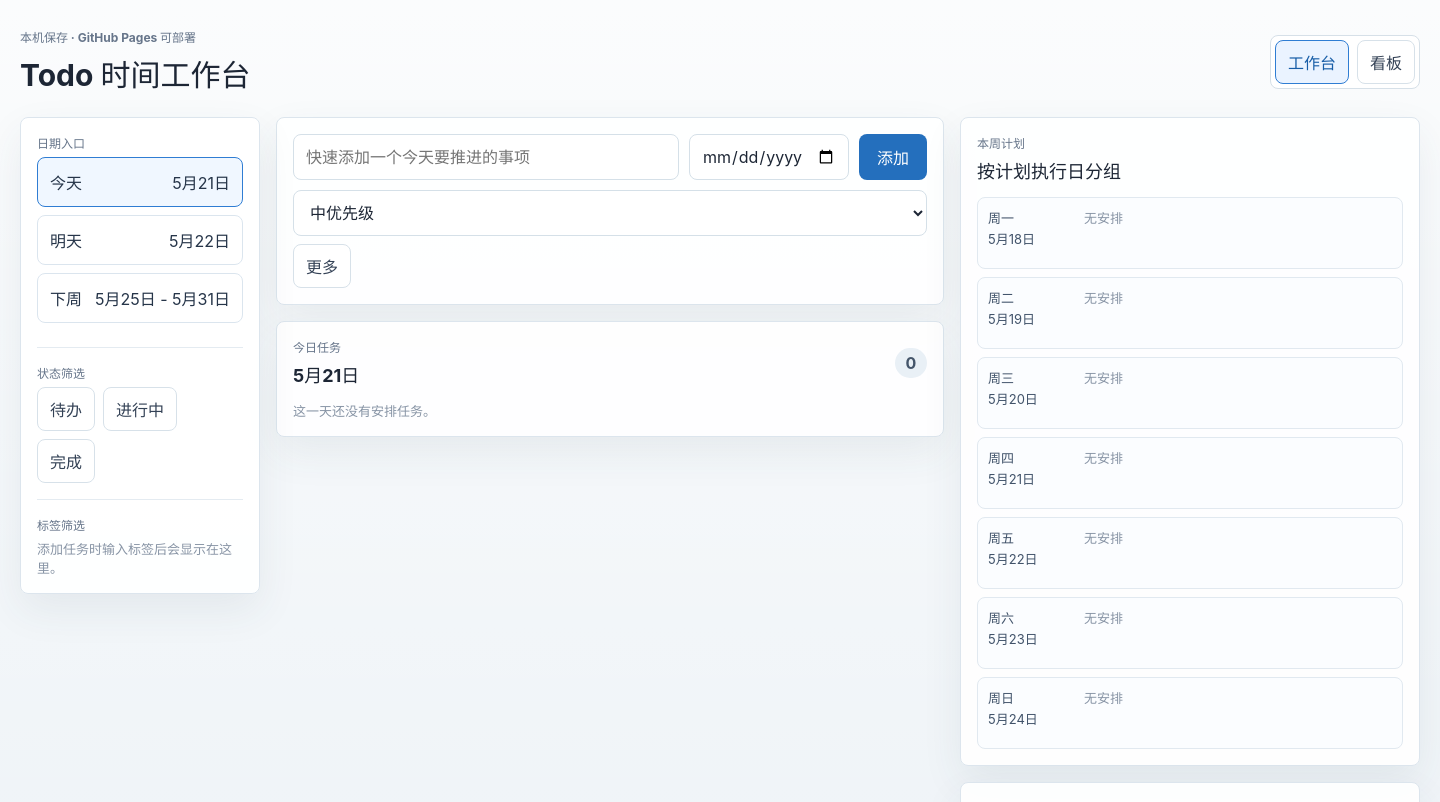
Test case: App workbench › renders the time workbench and adds a task from the quick input
The image size is (1440, 802).
Type "完成项目首页" into the field with test id "quick-title" at (486, 157), box [293, 134, 679, 180]
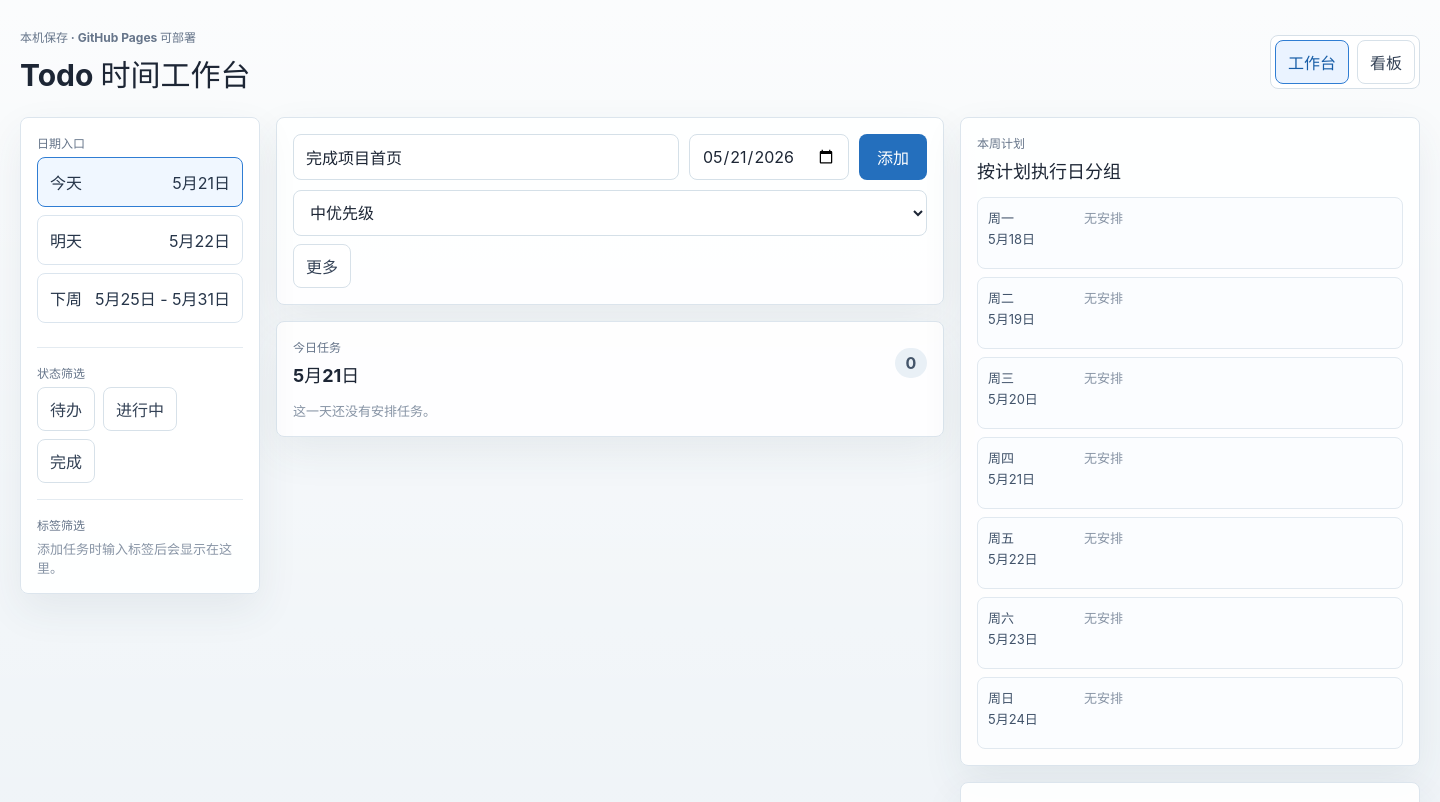
Submit the form with test id "quick-add", box [276, 117, 944, 305]
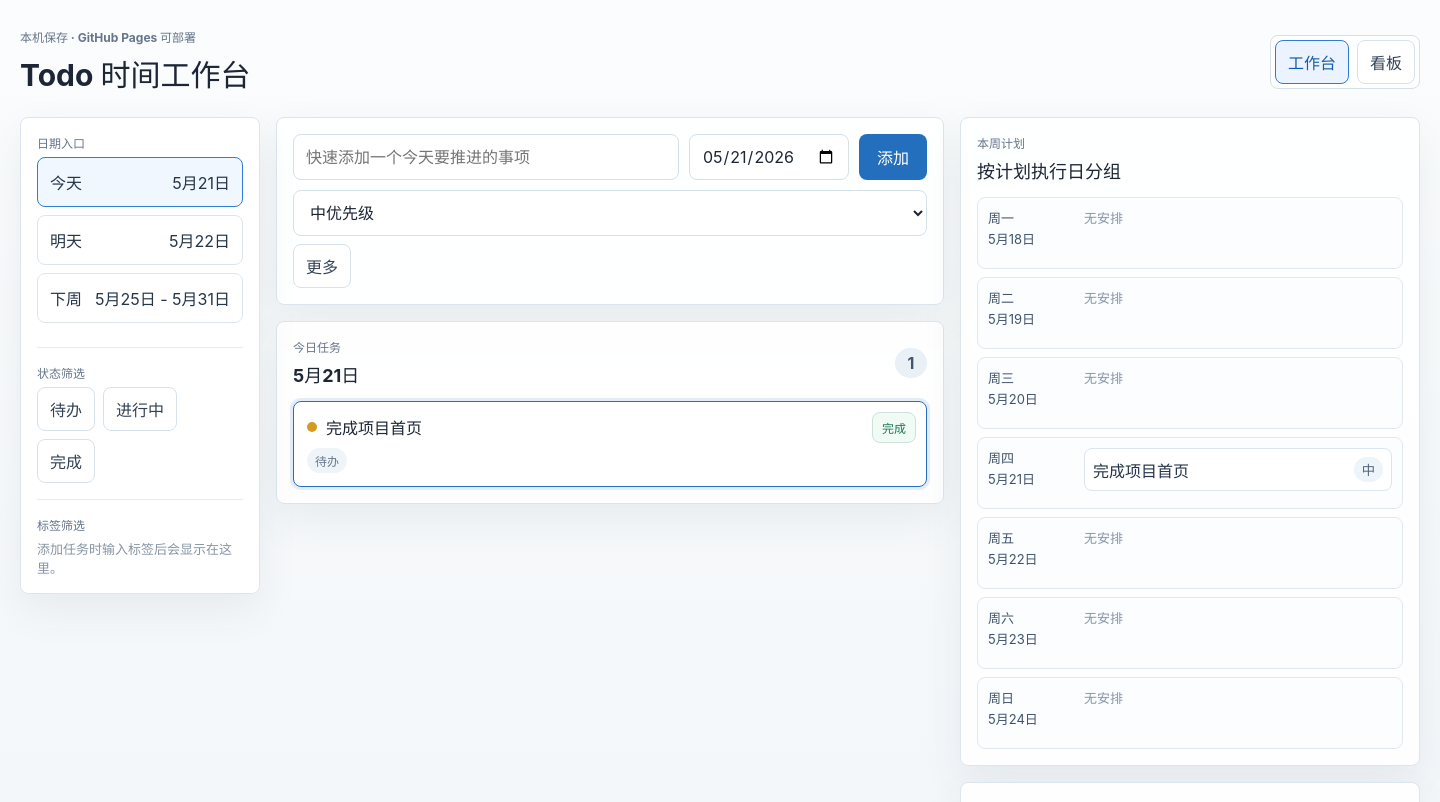
Result: the text "完成项目首页" is shown at [326, 415, 422, 439]
